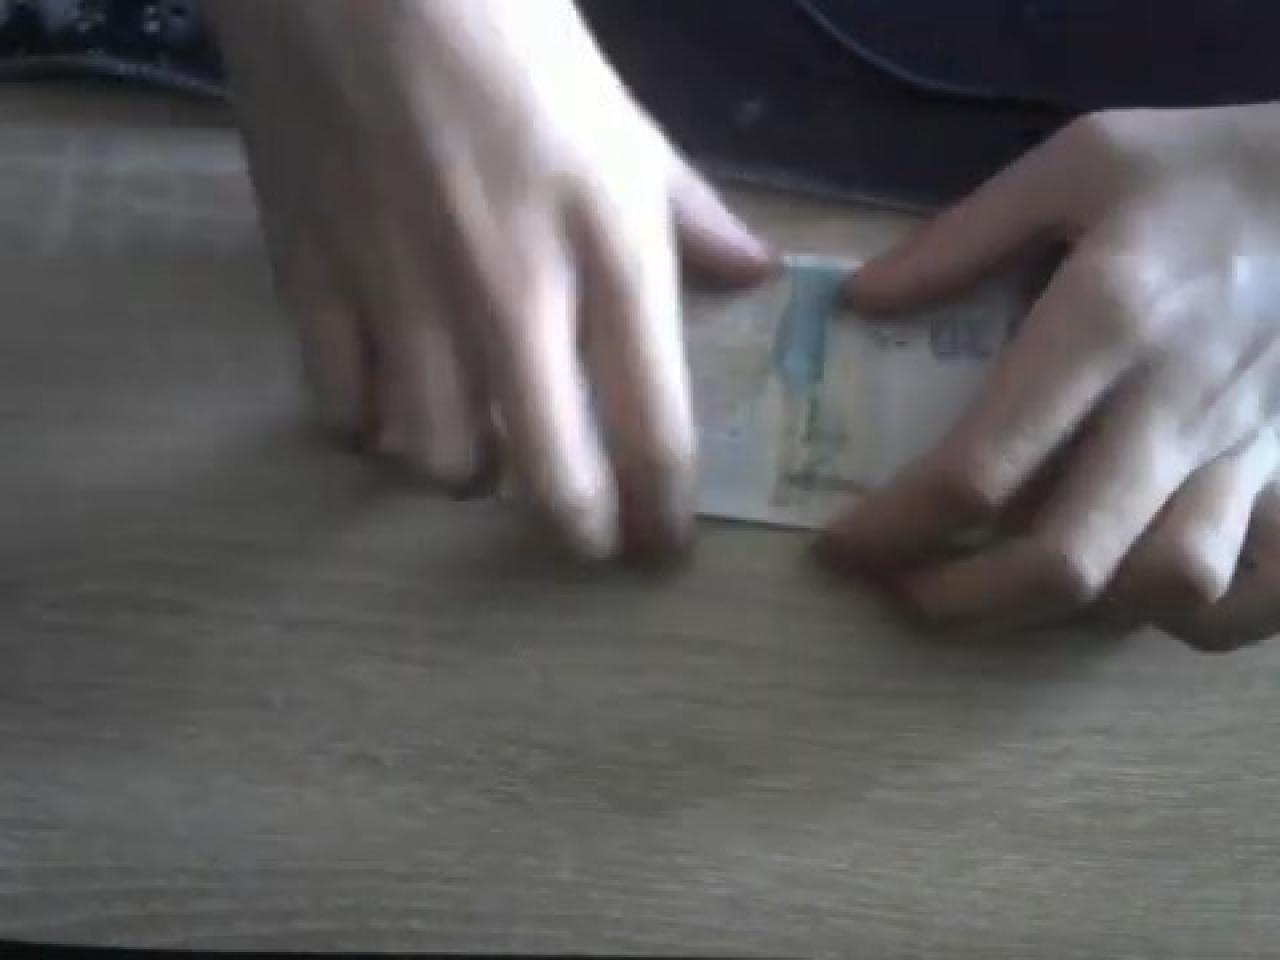20leva: (688, 256, 990, 522)
